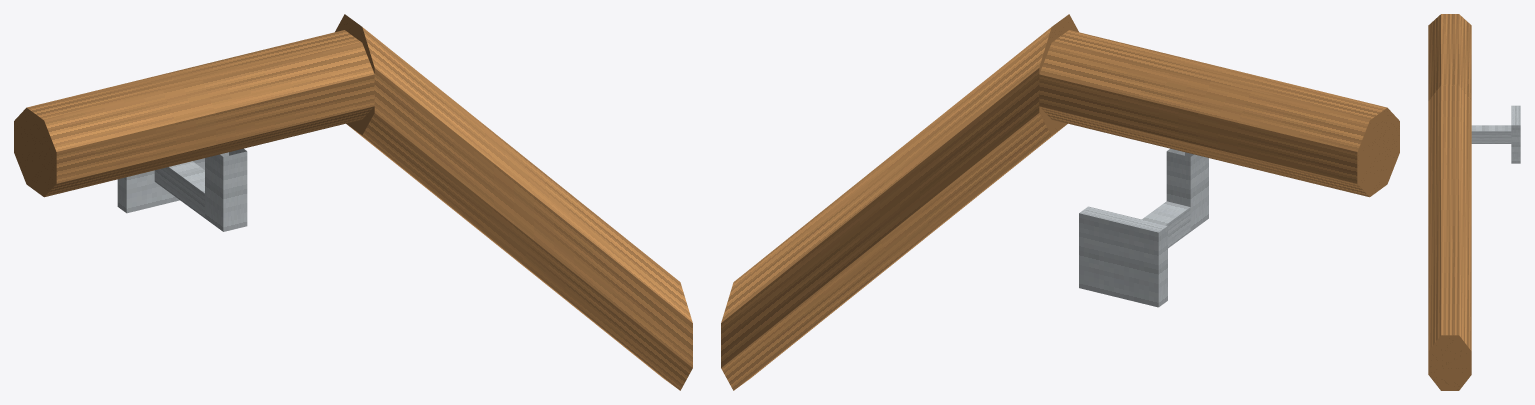
File: top_neg.obj
The picture shows the model from 3 angles, left to right: view 1: azimuth 30°, elevation 25°; view 2: azimuth 150°, elevation 25°; view 3: azimuth 270°, elevation 25°; orthographic projection. The views are drawn at different scales.
Parts seen in each view (by area): view 1: handrail_wall_oak_round_top_neg; view 2: handrail_wall_oak_round_top_neg; view 3: handrail_wall_oak_round_top_neg.
Boxes of the visible parts, x1,y1,x2,y2 form: handrail_wall_oak_round_top_neg: (14, 14, 692, 390); handrail_wall_oak_round_top_neg: (721, 14, 1399, 390); handrail_wall_oak_round_top_neg: (1428, 14, 1520, 390).
Size of the model in its own units: 1 by 0.6633 by 0.2452.
